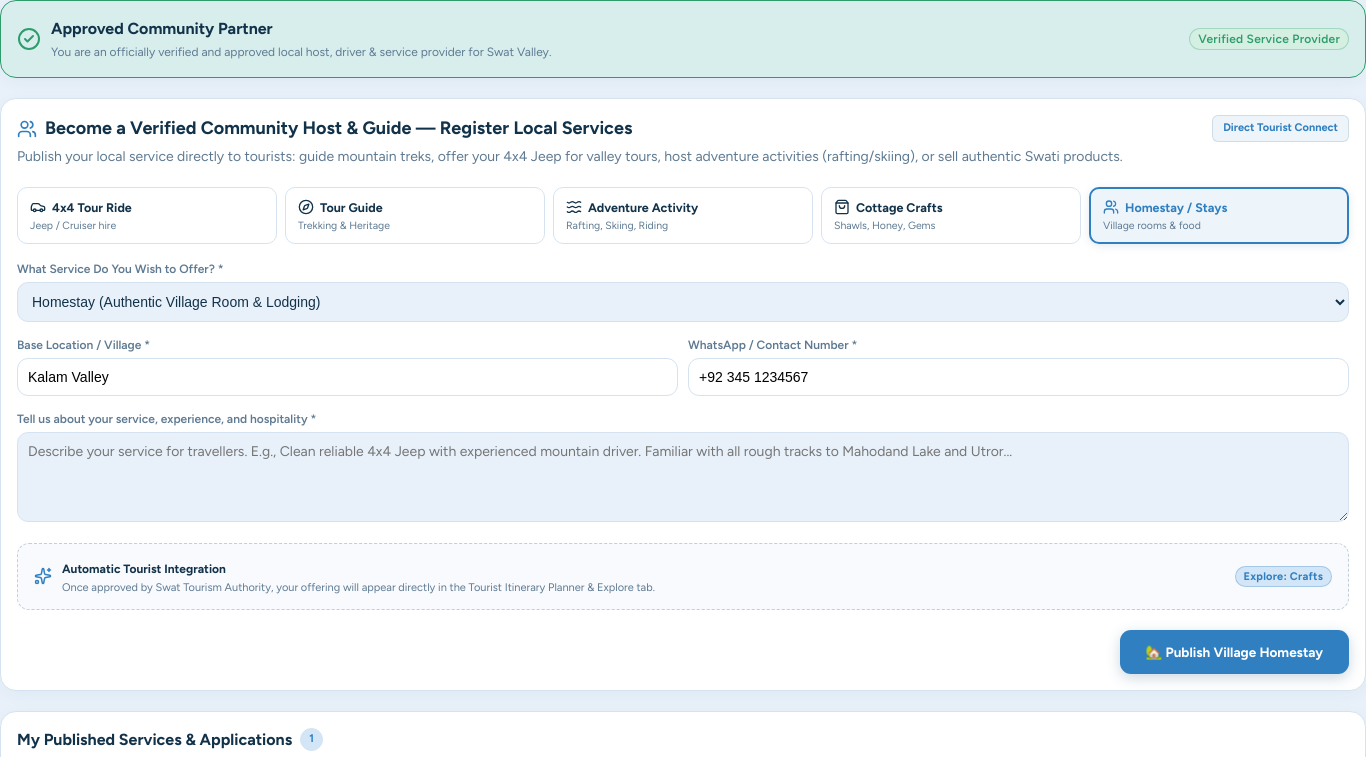
Test: Step 7: Community & Reports (Stories, Crafts, Reports, Host Applications, Authority Cases) › allows community member to submit host application and view application status
Expected: the heading "Become a Verified Community Host & Guide" is shown, left=45, top=117, right=632, bottom=139
Expected: the button with test id "btn-submit-host-app" is shown, left=1120, top=630, right=1349, bottom=674
Select "Homestay (Authentic Village Room & Lodging)" in the dropdown with test id "select-host-type" at (683, 302), box left=17, top=282, right=1349, bottom=322
Replace the text in the text box with test id "input-host-desc" with "Traditional 3-room stone cottage in Kalam with mountain stream views and organic local breakfast." at (683, 477), box left=17, top=432, right=1349, bottom=522
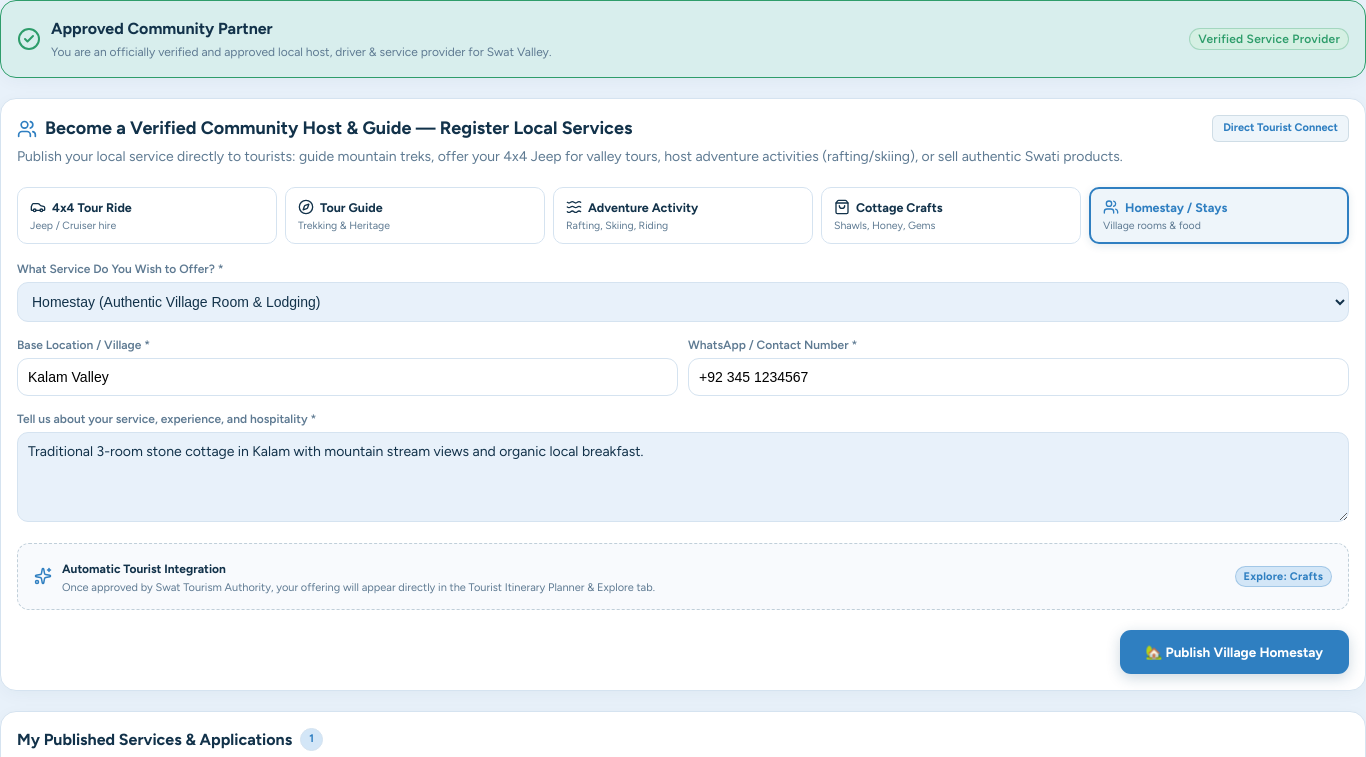
Click the button with test id "btn-submit-host-app" at (1234, 652), box left=1120, top=630, right=1349, bottom=674
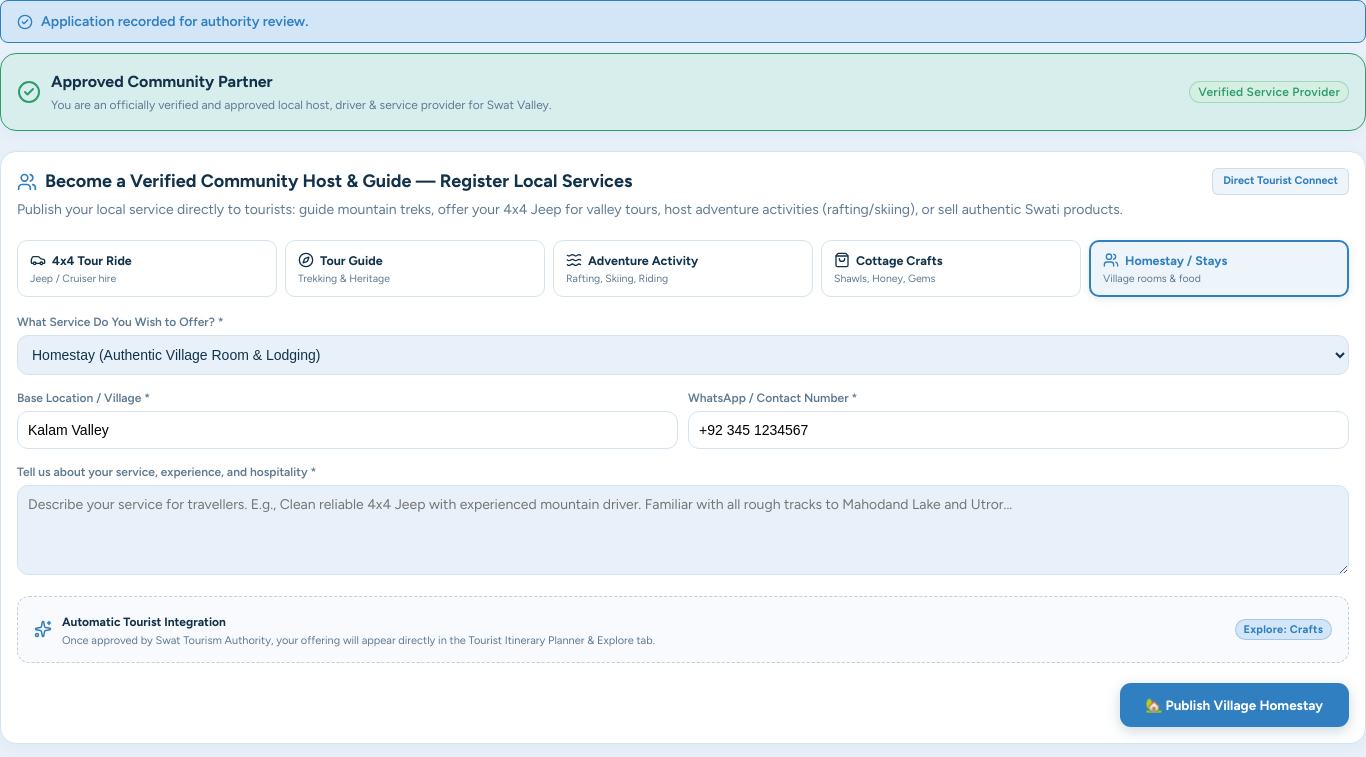
Result: the text "Application recorded for authority review." is shown at left=0, top=0, right=1365, bottom=43
